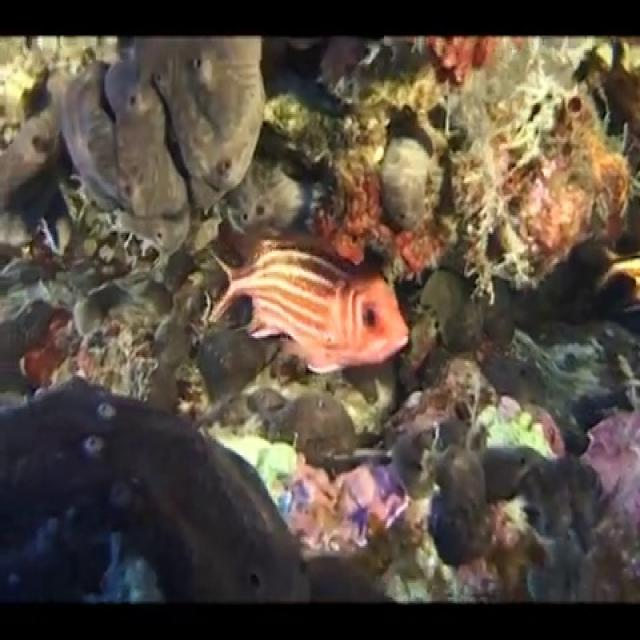Asker Baligi: (205, 238, 412, 377)
